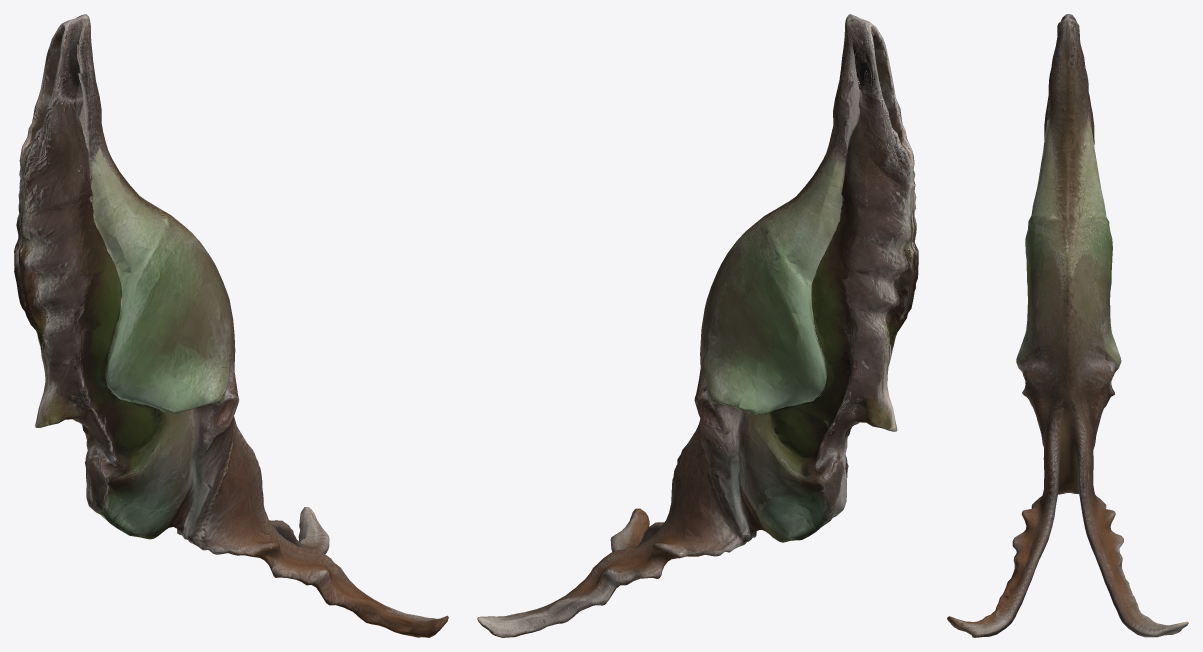
The model's file is crisalida.fbx.
3 views of the same model, side by side, from view 1: azimuth 30°, elevation 25°; view 2: azimuth 150°, elevation 25°; view 3: azimuth 270°, elevation 25° (orthographic). The views are drawn at different scales.
Visible parts, largest first — view 1: tripo_node_6966be8b; view 2: tripo_node_6966be8b; view 3: tripo_node_6966be8b.
Part boxes in pixels (left/top/right/bottom): tripo_node_6966be8b: left=14, top=14, right=448, bottom=637; tripo_node_6966be8b: left=477, top=14, right=918, bottom=637; tripo_node_6966be8b: left=947, top=14, right=1188, bottom=637.
Size of the model in its own units: 0.9039 by 1.52 by 0.6517.
1 material, 1 textured.
